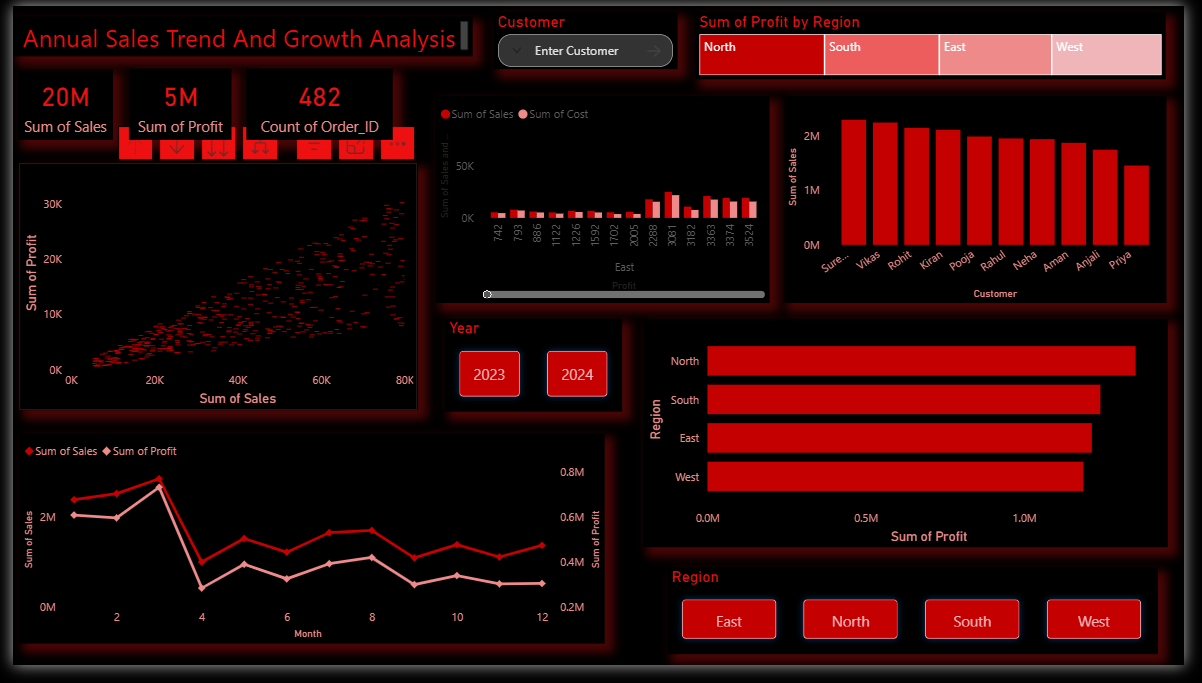

The dashboard page shown, as its layout file describes it:
{"tool":"powerbi","page":{"name":"Page 1","canvas":[1280,720],"ordinal":0},"visuals":[{"type":"card","fields":{"Values":["Sum(salesdb sales_data.Sales)"]},"box":[5.6,68.9,104.4,77.8],"z":0},{"type":"lineChart","fields":{"Category":["salesdb sales_data.Month"],"Y":["Sum(salesdb sales_data.Sales)"],"Y2":["Sum(salesdb sales_data.Profit)"]},"box":[6.7,466.7,640,230],"z":1000},{"type":"clusteredBarChart","fields":{"Category":["salesdb sales_data.Region"],"Y":["Sum(salesdb sales_data.Profit)"]},"box":[688,342,574,250],"z":2000},{"type":"clusteredColumnChart","fields":{"Category":["salesdb sales_data.Customer"],"Y":["Sum(salesdb sales_data.Sales)"]},"box":[841.2,98.8,418.8,226.2],"z":3000},{"type":"clusteredColumnChart","fields":{"Category":["salesdb sales_data.Region","salesdb sales_data.Profit"],"Y":["Sum(salesdb sales_data.Sales)","Sum(salesdb sales_data.Cost)"]},"box":[461.2,98.8,365,226.2],"z":4000},{"type":"scatterChart","fields":{"X":["Sum(salesdb sales_data.Sales)"],"Y":["Sum(salesdb sales_data.Profit)"],"Category":["salesdb sales_data.Order_ID","salesdb sales_data.Customer"]},"box":[6,172,436,270],"z":5000},{"type":"treemap","fields":{"Group":["salesdb sales_data.Region"],"Values":["Sum(salesdb sales_data.Profit)"]},"box":[745,6.2,515,73.8],"z":6000},{"type":"advancedSlicerVisual","fields":{"Values":["salesdb sales_data.Region"]},"box":[715,612.5,536.2,95],"z":7000},{"type":"textSlicer","fields":{"Values":["salesdb sales_data.Customer"]},"box":[525,6.2,201.2,62.5],"z":8000},{"type":"advancedSlicerVisual","fields":{"Values":["salesdb sales_data.Year"]},"box":[470.8,341.7,194.2,101.7],"z":9000},{"type":"textbox","box":[0,11.1,502.2,43.3],"z":10000},{"type":"card","fields":{"Values":["Sum(salesdb sales_data.Profit)"]},"box":[126.7,68.9,112.2,77.8],"z":11000},{"type":"card","fields":{"Values":["CountNonNull(salesdb sales_data.Order_ID)"]},"box":[254.4,68.9,160,77.8],"z":12000}]}

Visuals, with their boxes in screenshot pixels (x1, y1, x2, y2), scaled from the page's 1280x720 canvas onto the 1202x683 screenshot:
card - Sum(salesdb sales_data.Sales): 5/65/103/139
lineChart - salesdb sales_data.Month x Sum(salesdb sales_data.Sales): 6/443/607/661
clusteredBarChart - salesdb sales_data.Region x Sum(salesdb sales_data.Profit): 646/324/1185/562
clusteredColumnChart - salesdb sales_data.Customer x Sum(salesdb sales_data.Sales): 790/94/1183/308
clusteredColumnChart - salesdb sales_data.Region x salesdb sales_data.Profit: 433/94/776/308
scatterChart - Sum(salesdb sales_data.Sales) x Sum(salesdb sales_data.Profit): 6/163/415/419
treemap - salesdb sales_data.Region x Sum(salesdb sales_data.Profit): 700/6/1183/76
advancedSlicerVisual - salesdb sales_data.Region: 671/581/1175/671
textSlicer - salesdb sales_data.Customer: 493/6/682/65
advancedSlicerVisual - salesdb sales_data.Year: 442/324/624/421
textbox: 0/11/472/52
card - Sum(salesdb sales_data.Profit): 119/65/224/139
card - CountNonNull(salesdb sales_data.Order_ID): 239/65/389/139
